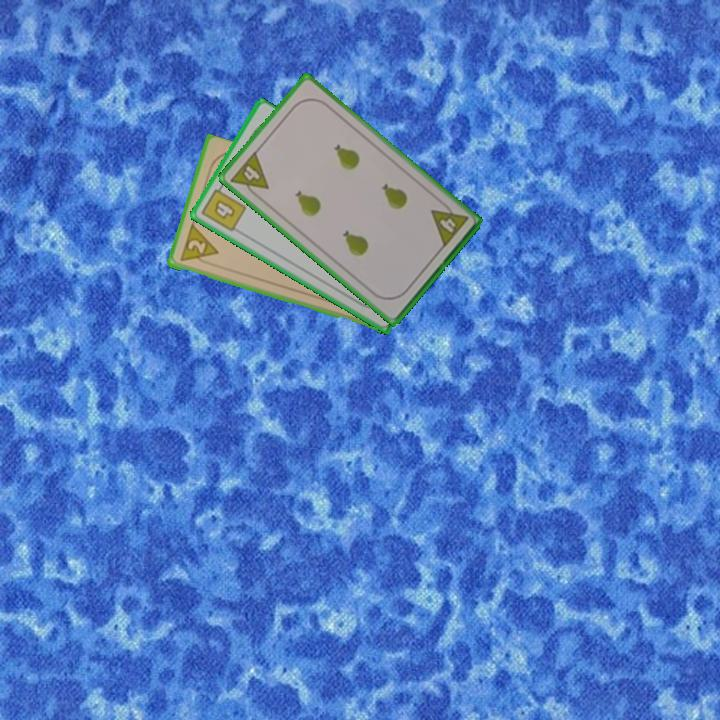2p: (176, 222, 221, 268)
4b: (198, 180, 249, 235)
4p: (227, 147, 272, 202), (427, 197, 471, 250)
